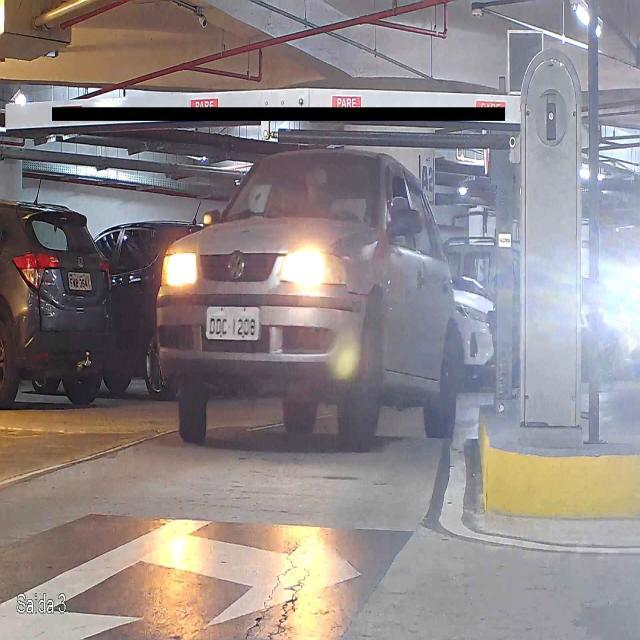old_plate: (204, 305, 261, 343)
